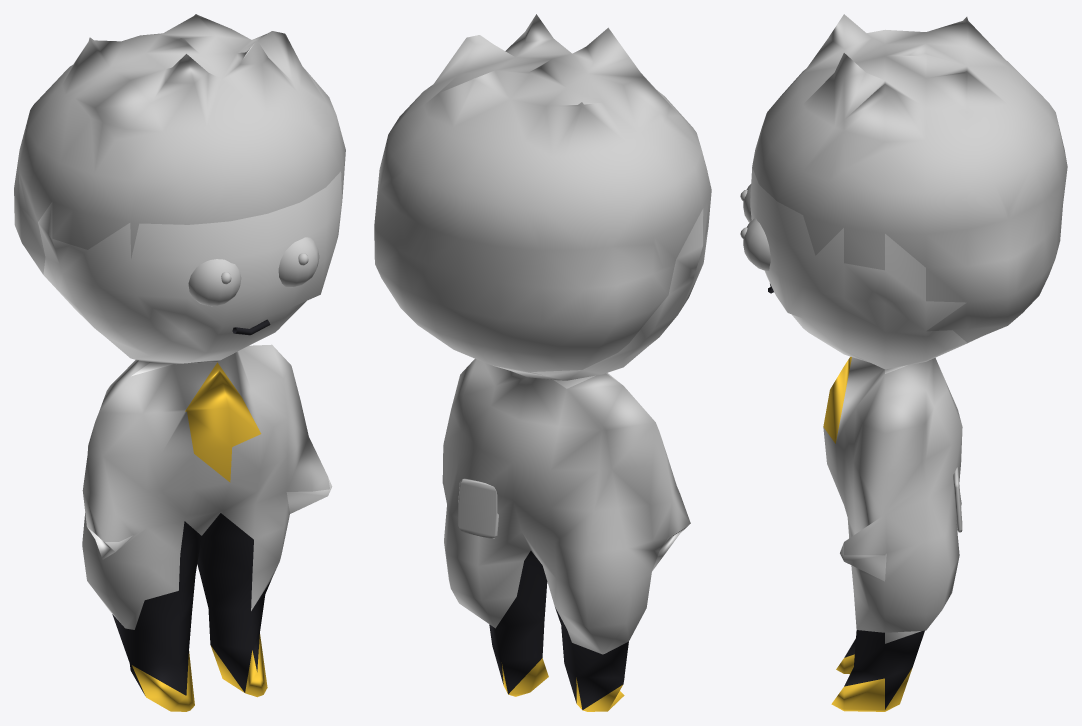
File: idol_boy_d_lod.fbx
3 renders of one model, left to right at view 1: azimuth 30°, elevation 25°; view 2: azimuth 150°, elevation 25°; view 3: azimuth 270°, elevation 25°, orthographic.
Parts seen in each view (by area): view 1: idol_boy_d_lod; view 2: idol_boy_d_lod; view 3: idol_boy_d_lod.
Part boxes in pixels (x1=…): idol_boy_d_lod: x1=14, y1=14, x2=345, y2=711; idol_boy_d_lod: x1=374, y1=14, x2=711, y2=711; idol_boy_d_lod: x1=740, y1=14, x2=1067, y2=711.
Bounding box in the file's own units: 0.5773 × 1.27 × 0.5662.
